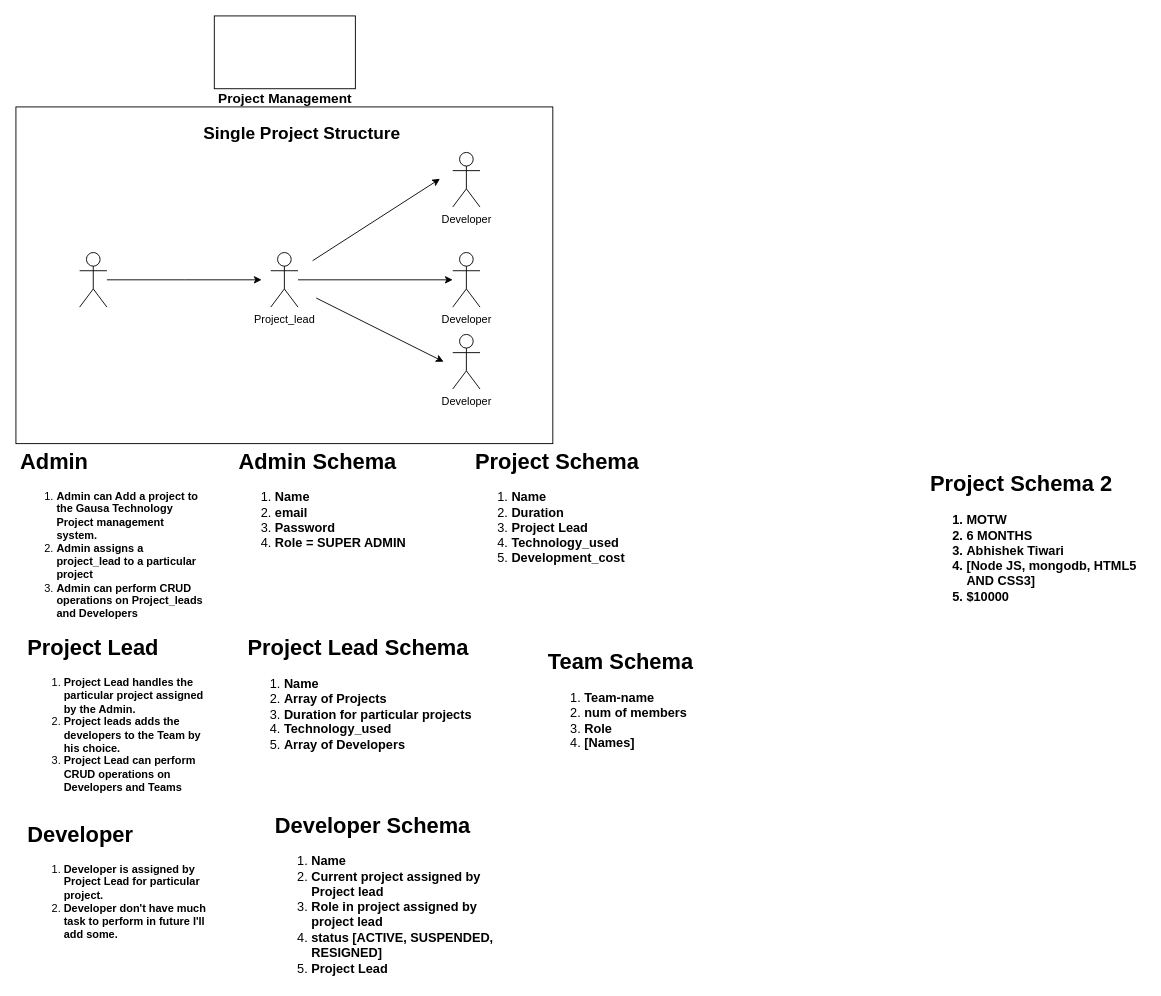
The diagram is 1161 pixels wide and 996 high, and some of its shapes have lost their labels. The shapes that lost their labels are listed below. From the top down, each one's box as (x1, y1, x2, y2) in pixels, then its label:
(213, 15, 355, 89): Gausa Technology
(79, 252, 107, 307): Admin
